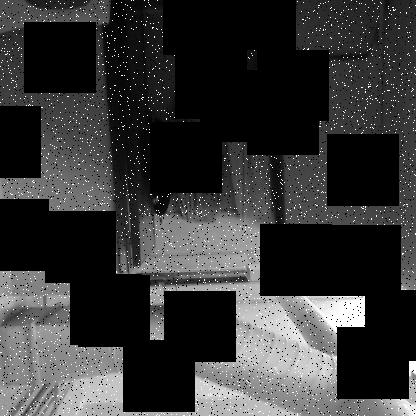Porte: (99, 1, 289, 275)
